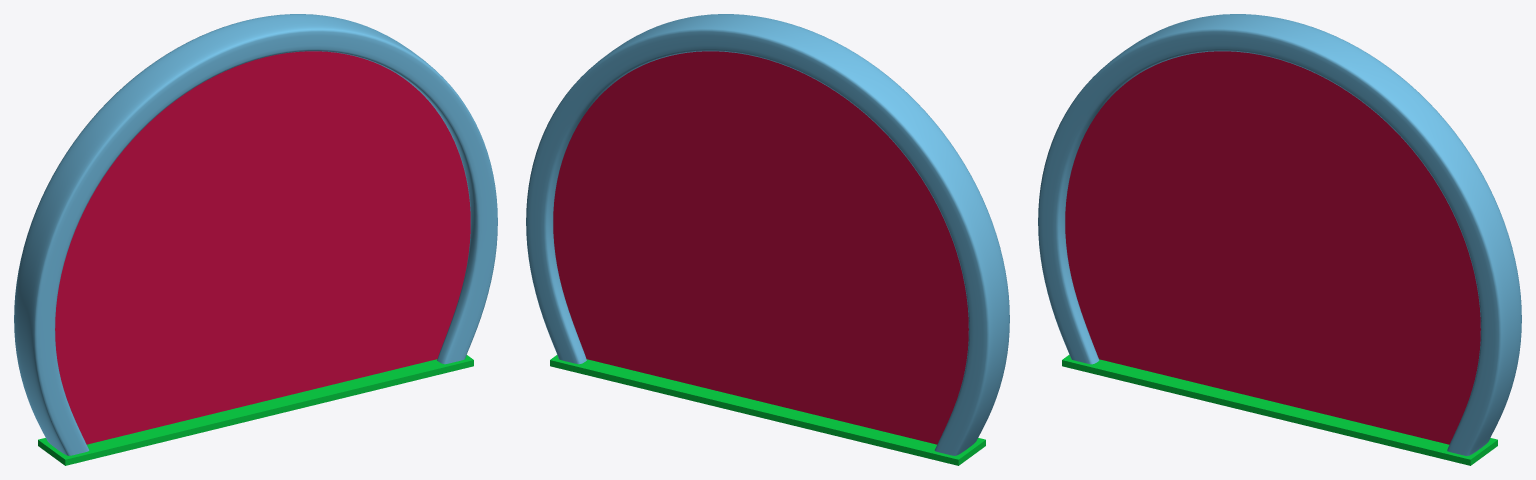
File: FinalPortalDoor.fbx
The picture shows the model from 3 angles, left to right: view 1: azimuth 30°, elevation 25°; view 2: azimuth 150°, elevation 25°; view 3: azimuth 330°, elevation 25°; orthographic projection.
Parts seen in each view (by area): view 1: Door_Right, Door _Left, polySurface2, polySurface1; view 2: Door_Right, Door _Left, polySurface2, polySurface1; view 3: Door _Left, Door_Right, polySurface2, polySurface1.
Part boxes in pixels (x1,y1,x2,y2): Door_Right: (259, 51, 470, 402); Door _Left: (55, 59, 259, 444); polySurface2: (14, 14, 497, 455); polySurface1: (38, 355, 473, 465); Door_Right: (553, 51, 764, 402); Door _Left: (764, 59, 968, 444); polySurface2: (526, 14, 1009, 455); polySurface1: (550, 355, 985, 465); Door _Left: (1065, 51, 1276, 402); Door_Right: (1276, 59, 1480, 444); polySurface2: (1038, 14, 1521, 455); polySurface1: (1062, 354, 1497, 465).
Size of the model in its own units: 193 by 150 by 19.68.
